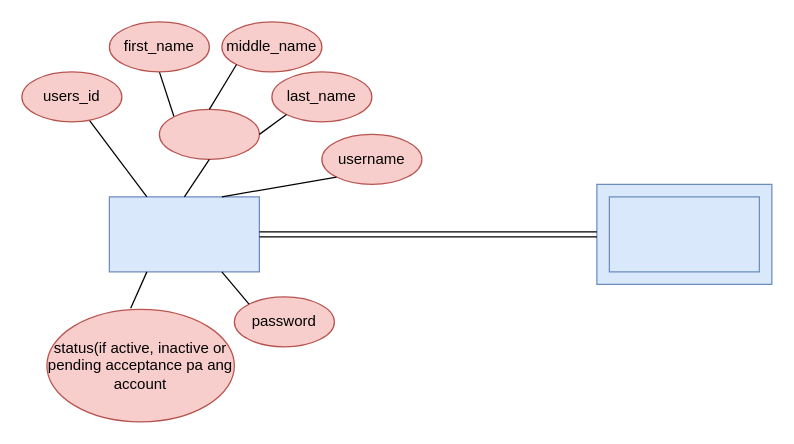
Some shapes in this 794 by 444 pixel diagram are drawn without their labels. Each missing label, with the centre of its shape:
"(full_name)" goes at point (208, 133).
"accounts" goes at point (183, 234).
"profile" goes at point (683, 234).
